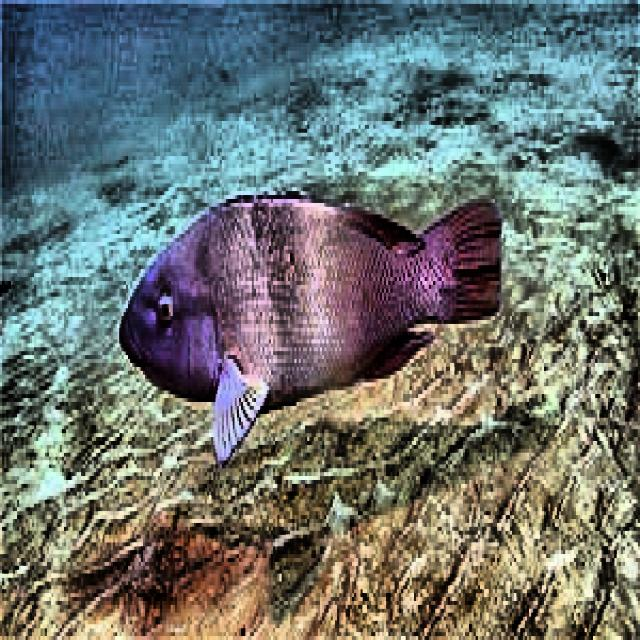fish: (117, 175, 501, 484)
